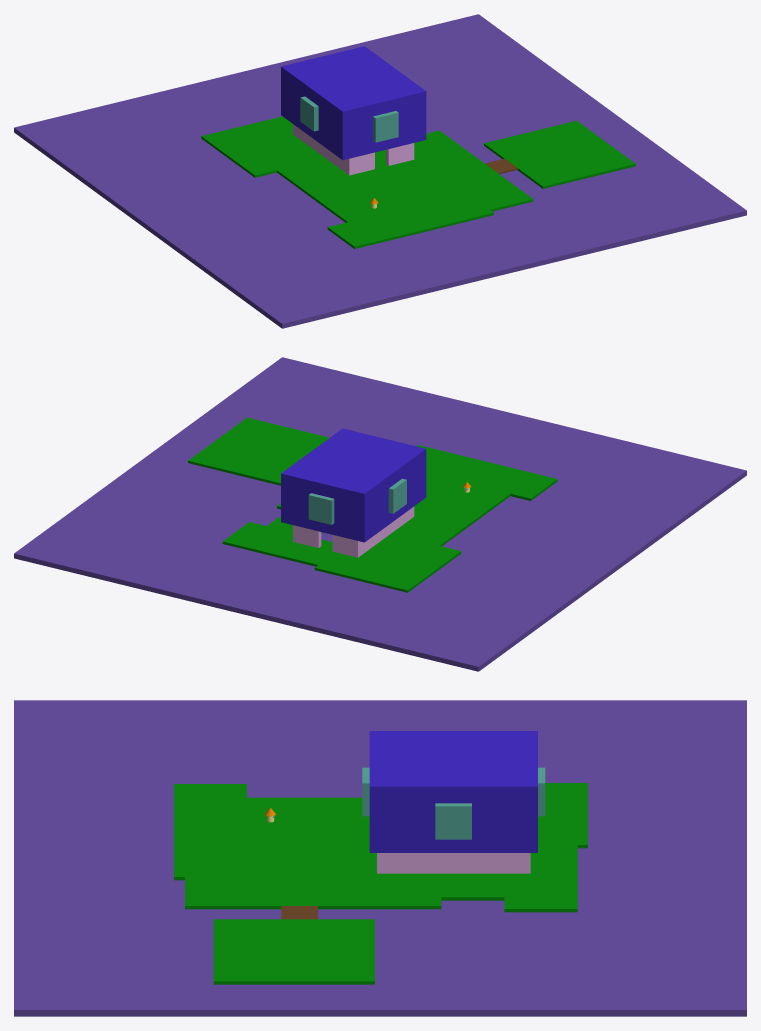
The model's file is MushroomMash.glb.
3 views of the same model, one above another, from view 1: azimuth 30°, elevation 25°; view 2: azimuth 150°, elevation 25°; view 3: azimuth 270°, elevation 25° (orthographic). The views are drawn at different scales.
Parts seen in each view (by area): view 1: Cube.001, Cube.003, Cube.012, ground.001, Cube.002, Cube.005, Cube.013, Cube.011, Cube.015; view 2: Cube.001, Cube.012, Cube.003, ground.001, Cube.002, ground, Cube.005, Cube.004, Cube.011, Cube.015; view 3: Cube.001, Cube.003, Cube.012, ground.001, Cube.005, ground, Cube.010, Cube.002, Cube.006, Cube.014.
Part boxes in pixels (left/top/right/bottom): Cube.001: left=14, top=14, right=746, bottom=328; Cube.003: left=277, top=130, right=533, bottom=238; Cube.012: left=281, top=46, right=426, bottom=160; ground.001: left=484, top=120, right=635, bottom=188; Cube.002: left=201, top=116, right=325, bottom=177; Cube.005: left=327, top=201, right=493, bottom=248; Cube.013: left=373, top=111, right=398, bottom=142; Cube.011: left=293, top=124, right=351, bottom=175; Cube.015: left=300, top=96, right=318, bottom=131; Cube.001: left=14, top=357, right=746, bottom=671; Cube.012: left=281, top=428, right=426, bottom=542; Cube.003: left=277, top=451, right=532, bottom=546; ground.001: left=188, top=417, right=329, bottom=485; Cube.002: left=314, top=534, right=461, bottom=592; ground: left=222, top=522, right=387, bottom=574; Cube.005: left=417, top=445, right=557, bottom=500; Cube.004: left=308, top=493, right=334, bottom=524; Cube.011: left=353, top=506, right=414, bottom=557; Cube.015: left=388, top=478, right=406, bottom=513; Cube.001: left=14, top=700, right=746, bottom=1016; Cube.003: left=185, top=797, right=441, bottom=909; Cube.012: left=369, top=731, right=537, bottom=852; ground.001: left=213, top=919, right=374, bottom=984; Cube.005: left=174, top=784, right=246, bottom=880; ground: left=504, top=816, right=577, bottom=912; Cube.010: left=377, top=853, right=530, bottom=873; Cube.002: left=538, top=783, right=587, bottom=848; Cube.006: left=437, top=873, right=510, bottom=900; Cube.014: left=435, top=803, right=471, bottom=839.
Size of the model in its own units: 200 by 31 by 200.
